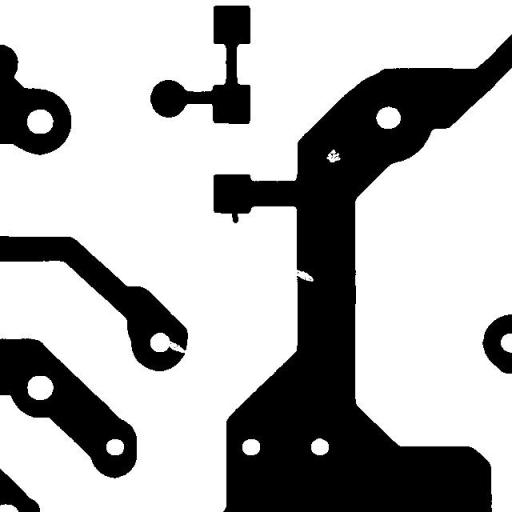mousebite: (285, 262, 321, 288)
open: (156, 331, 194, 361)
pin-hole: (318, 142, 348, 170)
spur: (222, 196, 246, 230)
